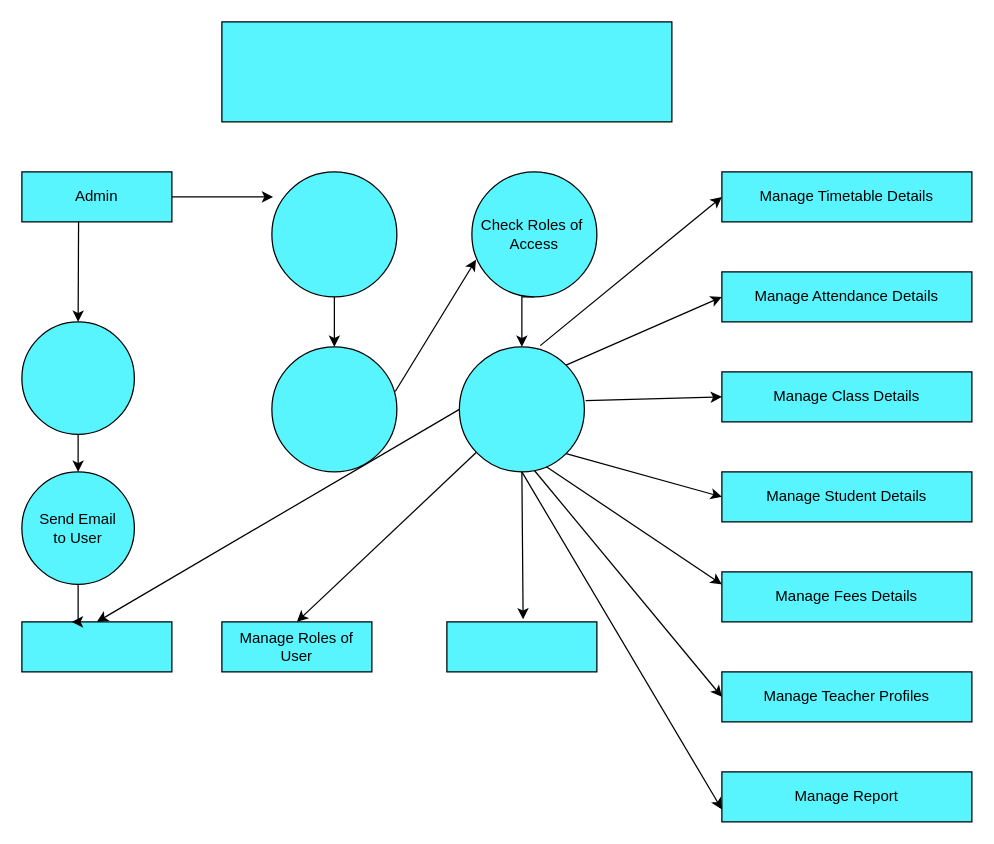
Some shapes in this 994 by 844 pixel diagram are drawn without their labels. Here are the shapes that lost their labels. From the top down, the centre of each, then its label:
At [446,71]: "Student Information System".
At [334,234]: "Login to System".
At [77,377]: "Forgot Password".
At [334,409]: "Check Credentials".
At [521,409]: "Manage Modules".
At [96,646]: "Manage System Admins".
